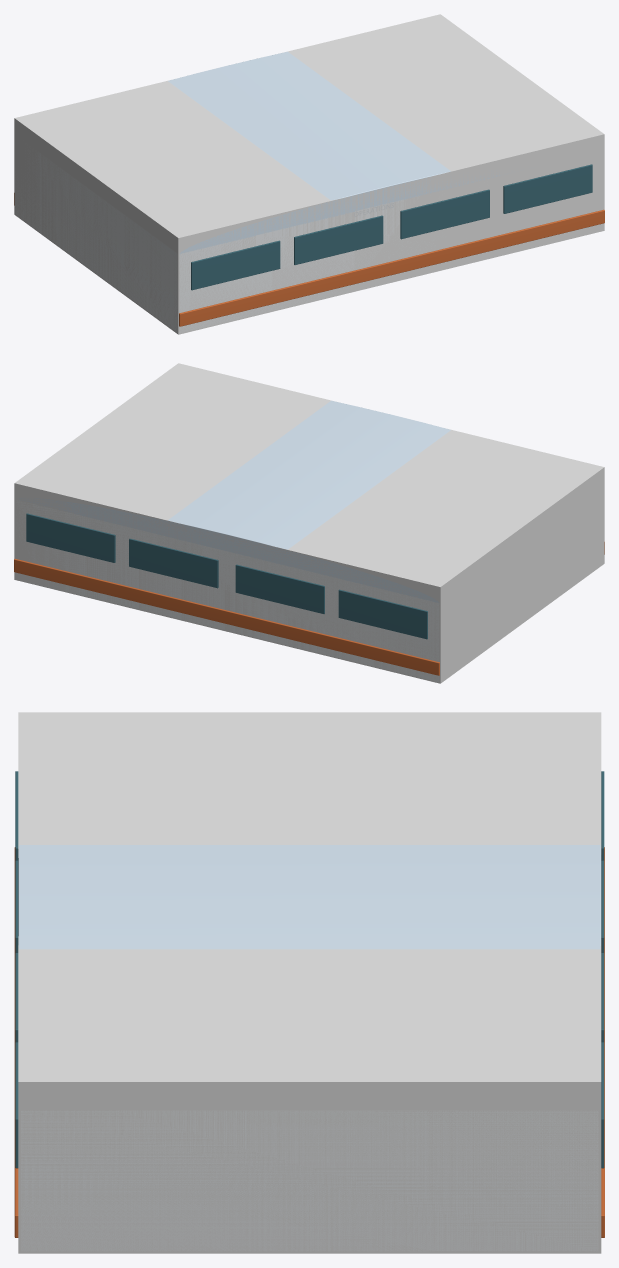
Rendered from m3_command_bunker.glb.
The picture shows the model from 3 angles, top to bottom: view 1: azimuth 30°, elevation 25°; view 2: azimuth 150°, elevation 25°; view 3: azimuth 270°, elevation 25°; orthographic projection. The views are drawn at different scales.
Parts seen in each view (by area): view 1: COL_m3_command_bunker, m3_command_bunker_ir_blue, m3_command_bunker_ir_plaster, m3_command_bunker_ir_glass, m3_command_bunker_ir_orange; view 2: COL_m3_command_bunker, m3_command_bunker_ir_blue, m3_command_bunker_ir_plaster, m3_command_bunker_ir_glass, m3_command_bunker_ir_orange; view 3: COL_m3_command_bunker, m3_command_bunker_ir_plaster, m3_command_bunker_ir_blue, m3_command_bunker_ir_glass, m3_command_bunker_ir_orange.
Part boxes in pixels (<box>): COL_m3_command_bunker: <box>14,14,604,334</box>; m3_command_bunker_ir_blue: <box>168,51,512,254</box>; m3_command_bunker_ir_plaster: <box>15,148,435,332</box>; m3_command_bunker_ir_glass: <box>191,164,592,290</box>; m3_command_bunker_ir_orange: <box>14,193,604,326</box>; COL_m3_command_bunker: <box>14,363,604,683</box>; m3_command_bunker_ir_blue: <box>19,400,450,602</box>; m3_command_bunker_ir_plaster: <box>16,500,439,681</box>; m3_command_bunker_ir_glass: <box>26,513,427,639</box>; m3_command_bunker_ir_orange: <box>14,542,604,675</box>; COL_m3_command_bunker: <box>18,712,601,1253</box>; m3_command_bunker_ir_plaster: <box>21,1110,598,1251</box>; m3_command_bunker_ir_blue: <box>18,845,601,949</box>; m3_command_bunker_ir_glass: <box>15,771,604,1168</box>; m3_command_bunker_ir_orange: <box>14,847,604,1237</box>.
Bounding box in the file's own units: 12 × 2.62 × 8.11.
